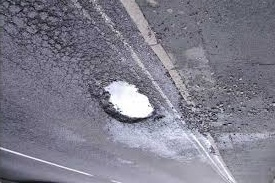pothole: (85, 75, 160, 125)
